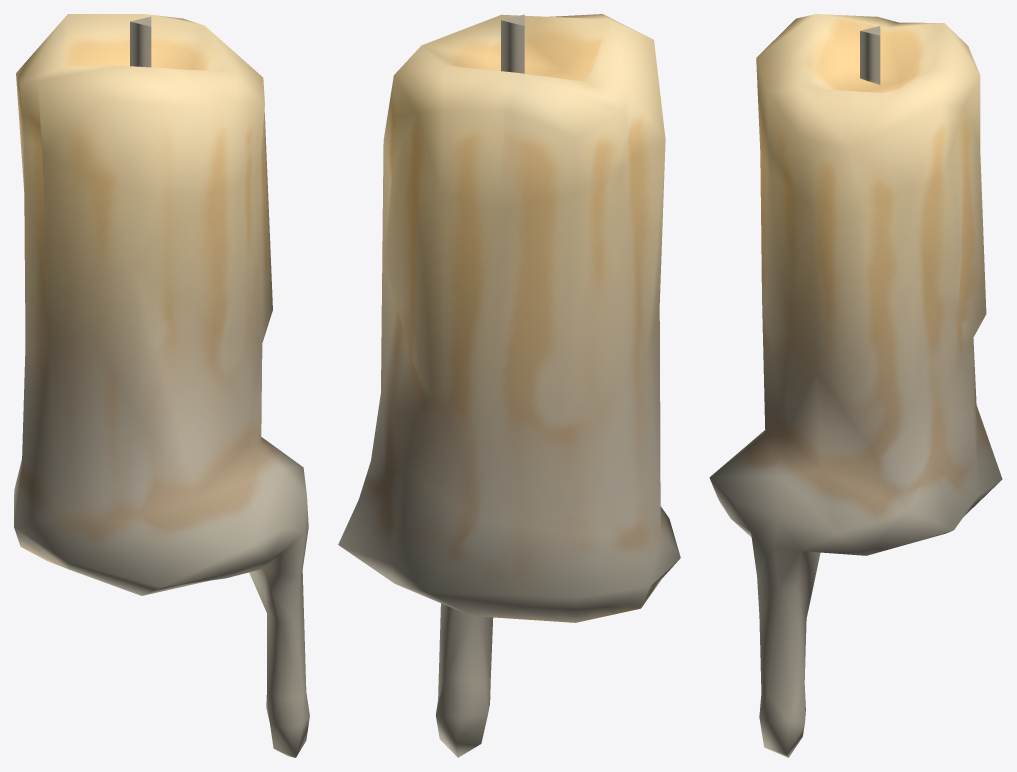
Rendered from SM_CandleSlim_02.fbx.
The picture shows the model from 3 angles, left to right: view 1: azimuth 30°, elevation 25°; view 2: azimuth 150°, elevation 25°; view 3: azimuth 270°, elevation 25°; orthographic projection. The views are drawn at different scales.
Parts seen in each view (by area): view 1: SM_CandleSlim_02_LOD0; view 2: SM_CandleSlim_02_LOD0; view 3: SM_CandleSlim_02_LOD0.
Boxes of the visible parts, <box> form: SM_CandleSlim_02_LOD0: <box>14,14,309,757</box>; SM_CandleSlim_02_LOD0: <box>338,14,680,757</box>; SM_CandleSlim_02_LOD0: <box>709,14,1002,757</box>.
Bounding box in the file's own units: 7.87 × 8 × 20.53.
